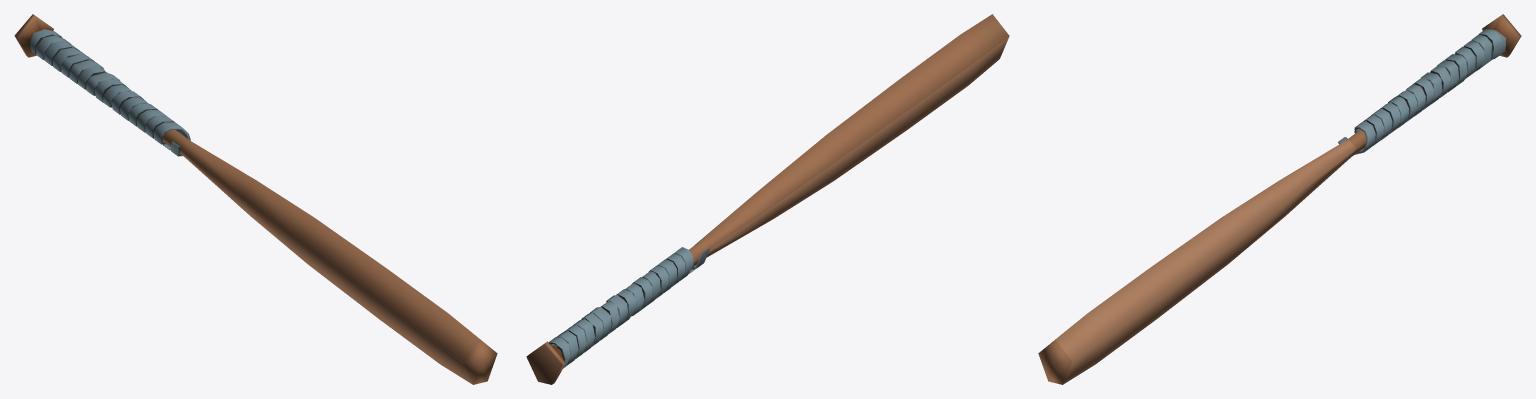
The model's file is human-sports-baseball-bat_v1.glb.
3 renders of one model, left to right at view 1: azimuth 30°, elevation 25°; view 2: azimuth 150°, elevation 25°; view 3: azimuth 330°, elevation 25°, orthographic.
Parts seen in each view (by area): view 1: Baseball Bat; view 2: Baseball Bat; view 3: Baseball Bat.
Part boxes in pixels (x1,y1,x2,y2): Baseball Bat: (14,14,497,384); Baseball Bat: (526,14,1009,384); Baseball Bat: (1038,14,1521,384).
Size of the model in its own units: 0.0417 by 0.0513 by 0.85.
